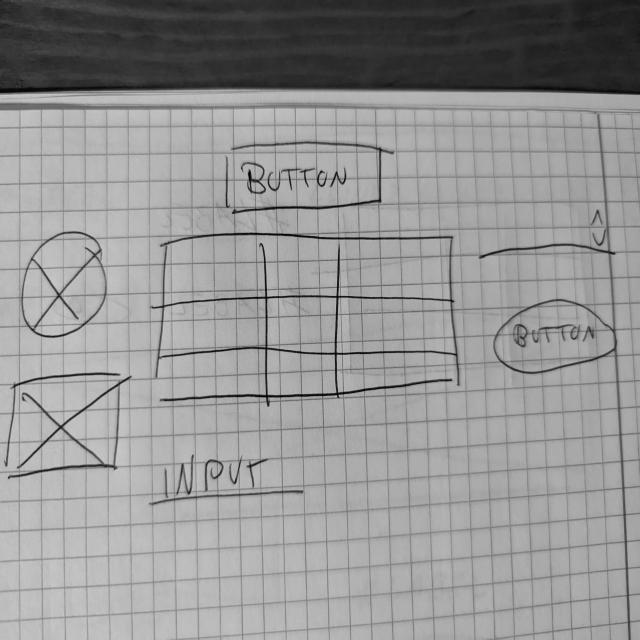button: (224, 138, 388, 218), (491, 297, 621, 380)
image: (3, 367, 126, 485), (18, 227, 111, 343)
input: (146, 452, 308, 512)
number-input: (477, 205, 620, 264)
table: (153, 230, 465, 409)
